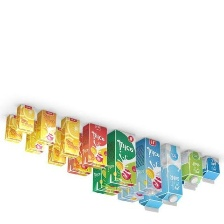carton: (104, 128, 136, 191), (156, 143, 182, 209), (133, 138, 163, 195), (80, 122, 108, 169), (62, 132, 87, 179), (178, 146, 202, 194), (57, 115, 81, 160), (43, 127, 68, 169), (89, 166, 120, 199), (34, 109, 56, 146), (22, 120, 44, 155), (1, 112, 24, 144), (199, 153, 221, 186), (114, 183, 144, 205), (14, 104, 34, 134), (136, 192, 160, 216)
